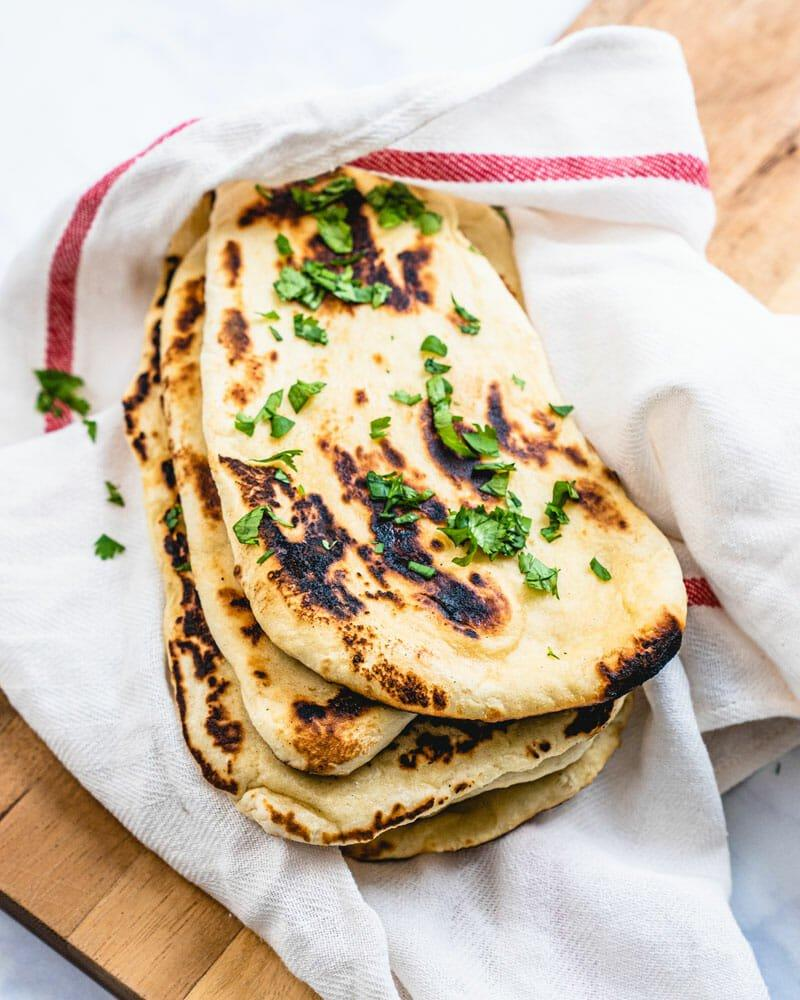Naan: (148, 142, 696, 869)
